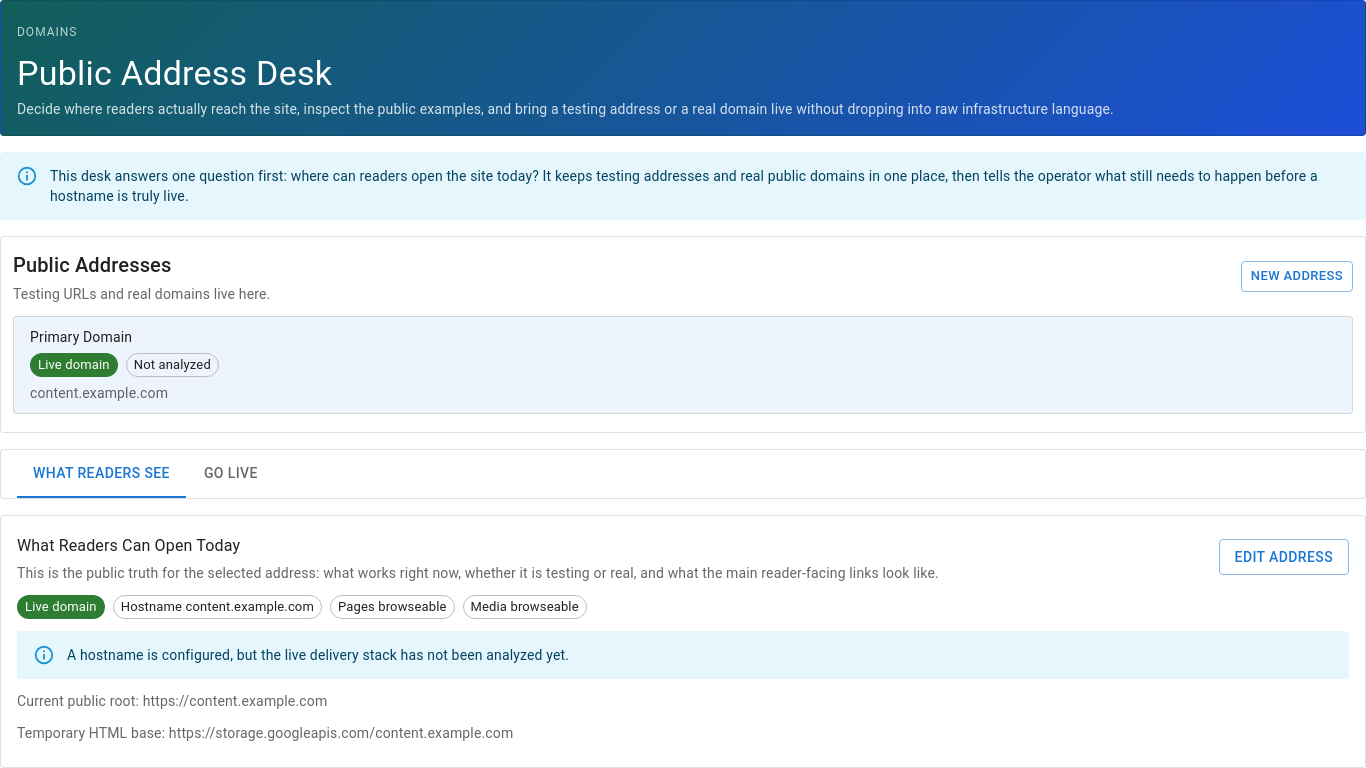
domains desk shows a public-address summary and drawer-based editing
Expected: the heading "Public Address Desk" is shown, [17,53,332,93]
Expected: the heading "Public Addresses" is shown, [13,253,172,277]
Click the button "Edit Address" at (1284, 557), box [1219,539,1349,575]
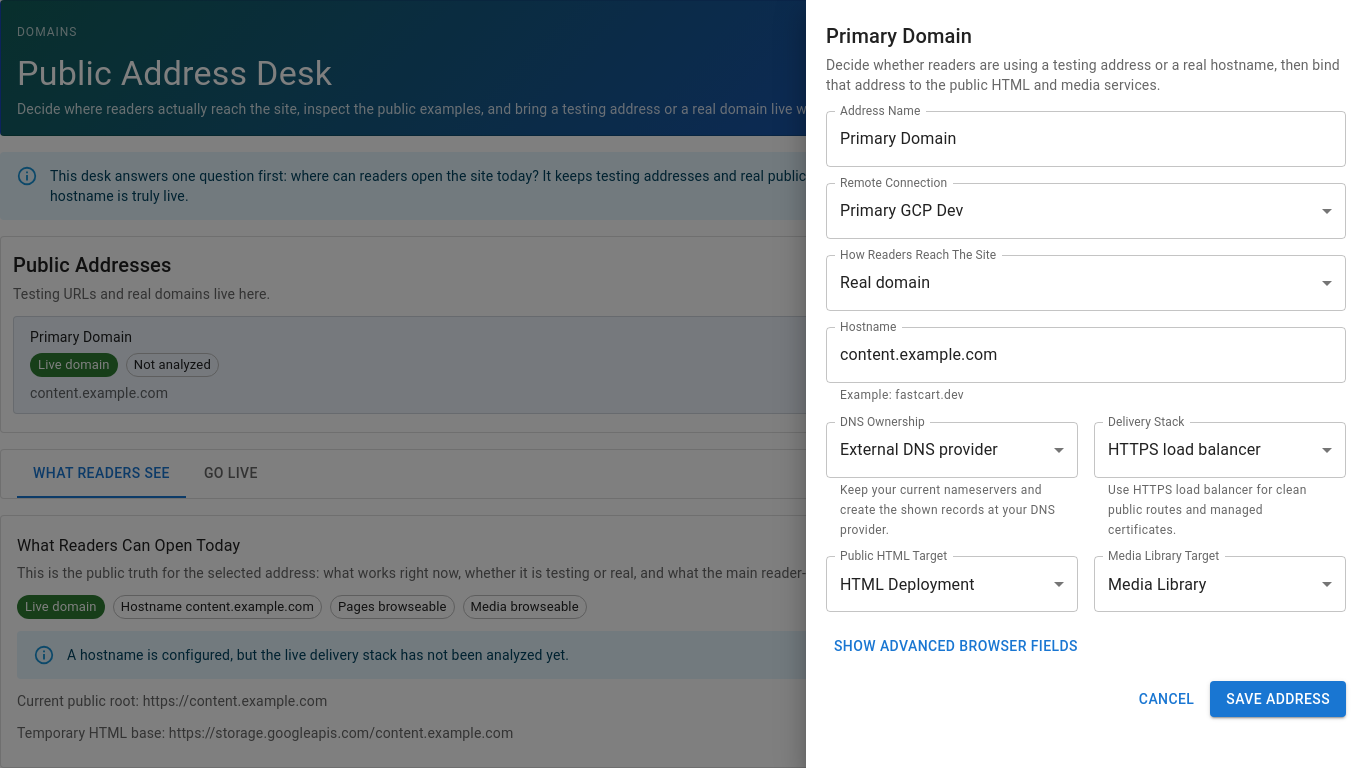
Expected: the heading "Primary Domain" is shown, [826,24,972,48]
Expected: the field labelled "Address Name" is shown, [826,111,1346,167]
Expected: the dropdown named "How Readers Reach The Site" is shown, [840,273,930,292]
